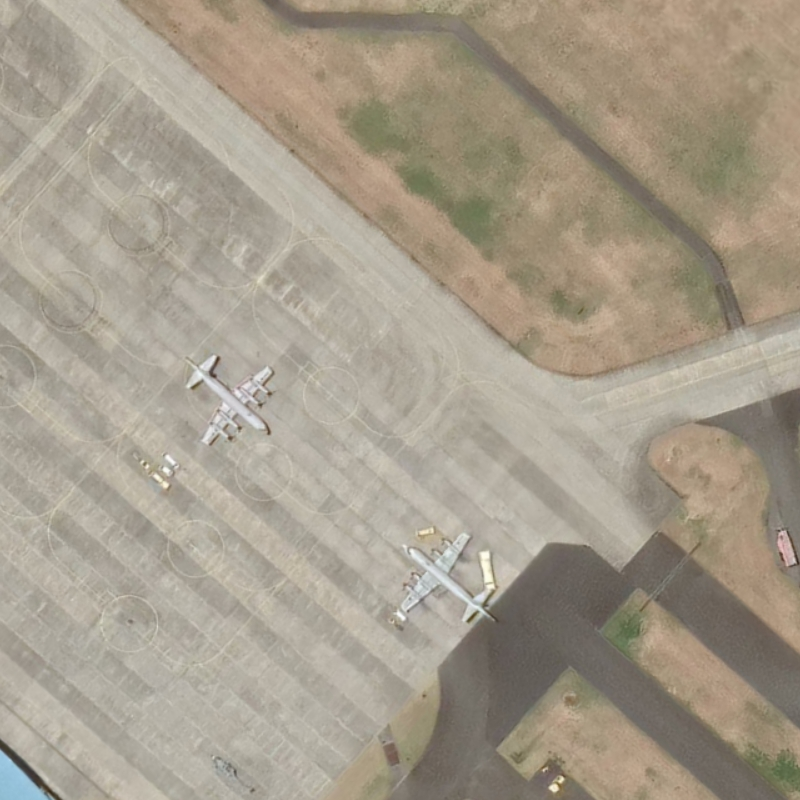A9: (387, 524, 502, 634), (178, 344, 288, 455)
